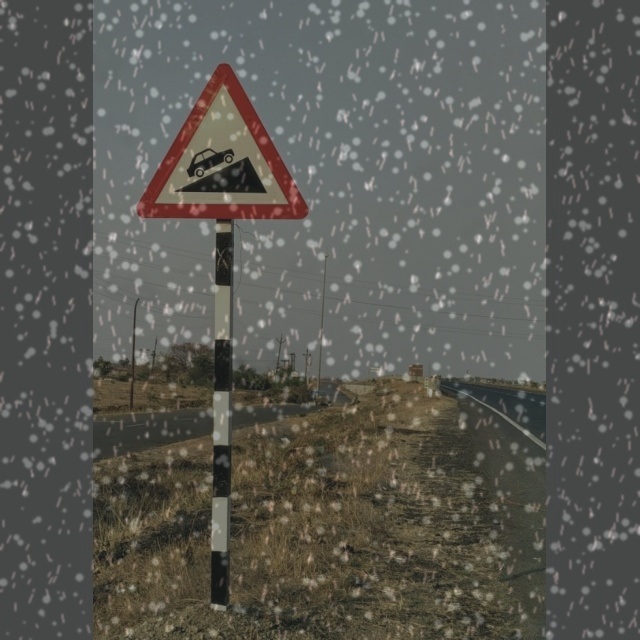Steep_Ascent: (133, 64, 311, 229)
